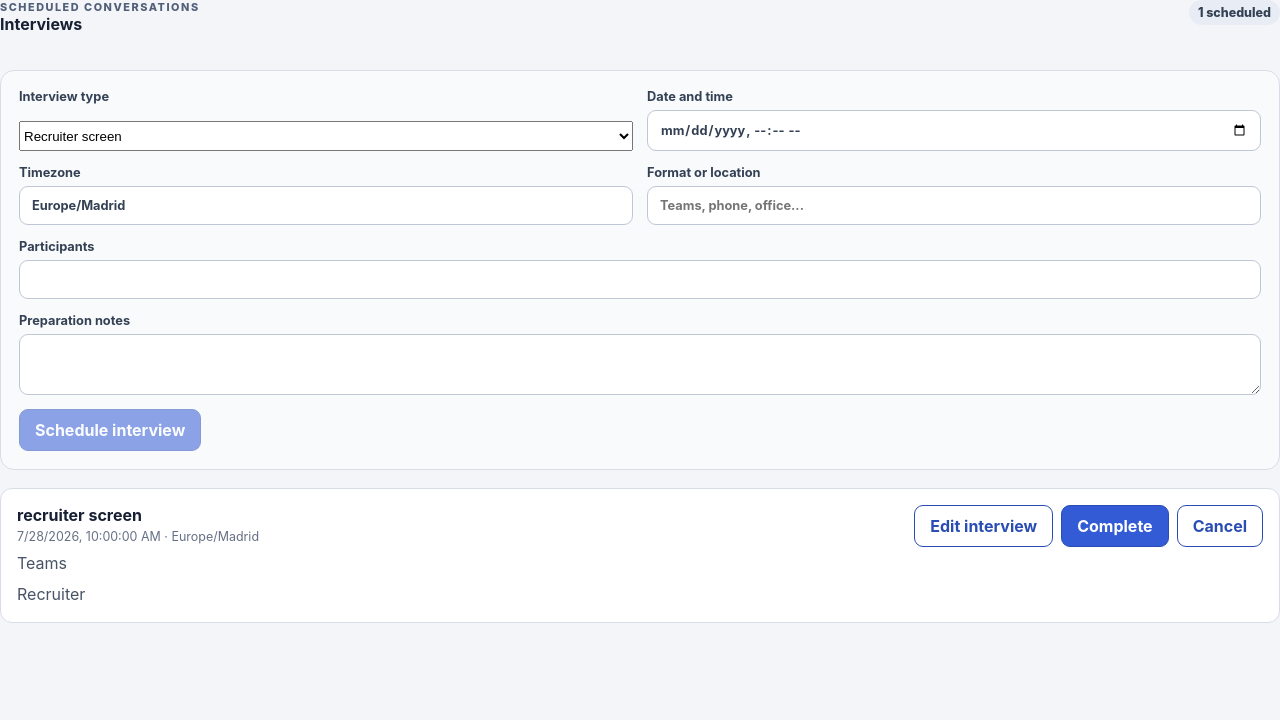
Scenario: ApplicationInterviews › edits and reloads a persisted interview
Expected: the text "recruiter screen" is shown, x1=17 y1=505 x2=142 y2=525
Click the button "Edit interview" at (984, 526), box x1=914 y1=505 x2=1053 y2=547
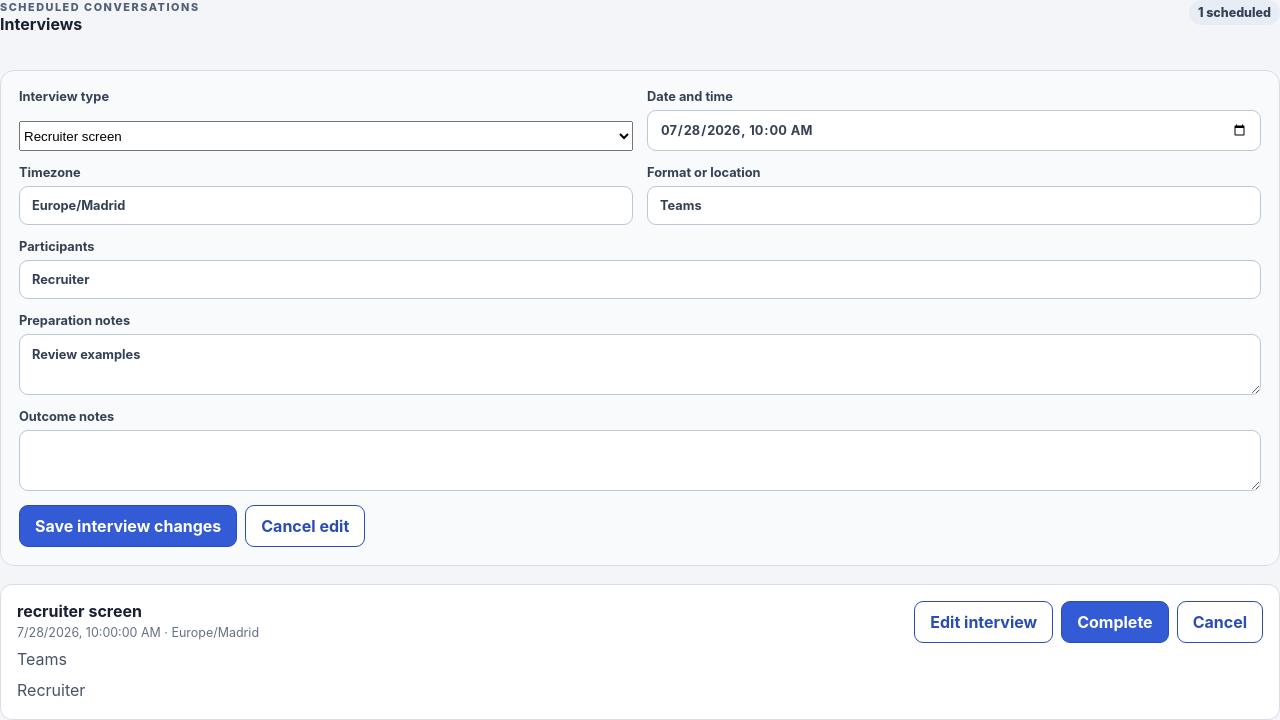
Select "Technical interview" in the dropdown labelled "Interview type" at (326, 136), box x1=19 y1=121 x2=633 y2=151
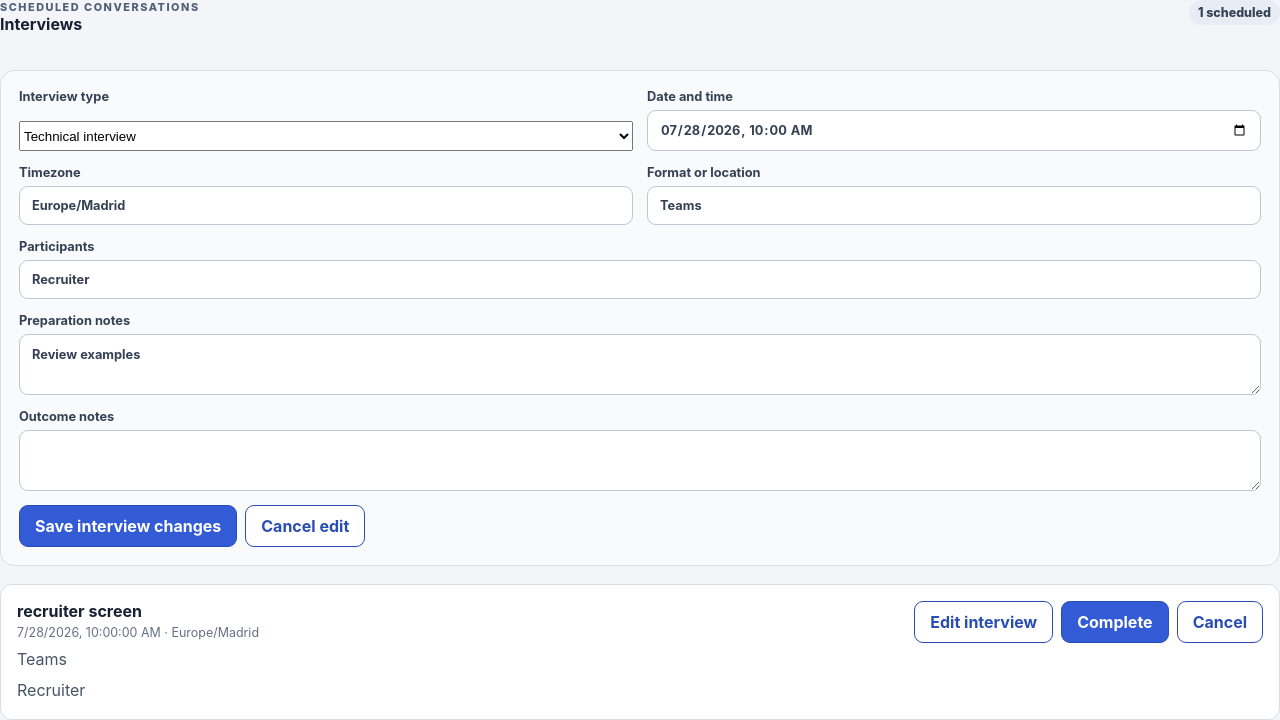
Replace the text in the field labelled "Format or location" with "Office" at (954, 206), box x1=647 y1=186 x2=1261 y2=225
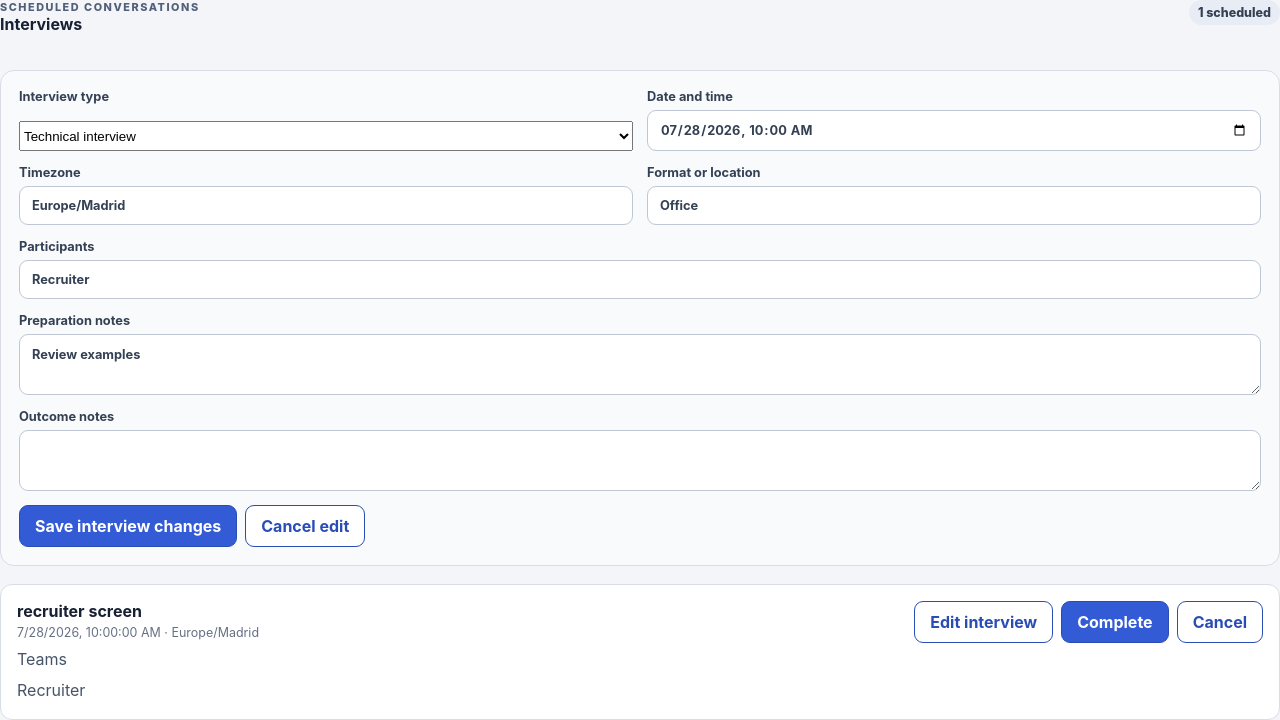
Click the button "Save interview changes" at (128, 526), box x1=19 y1=505 x2=237 y2=547
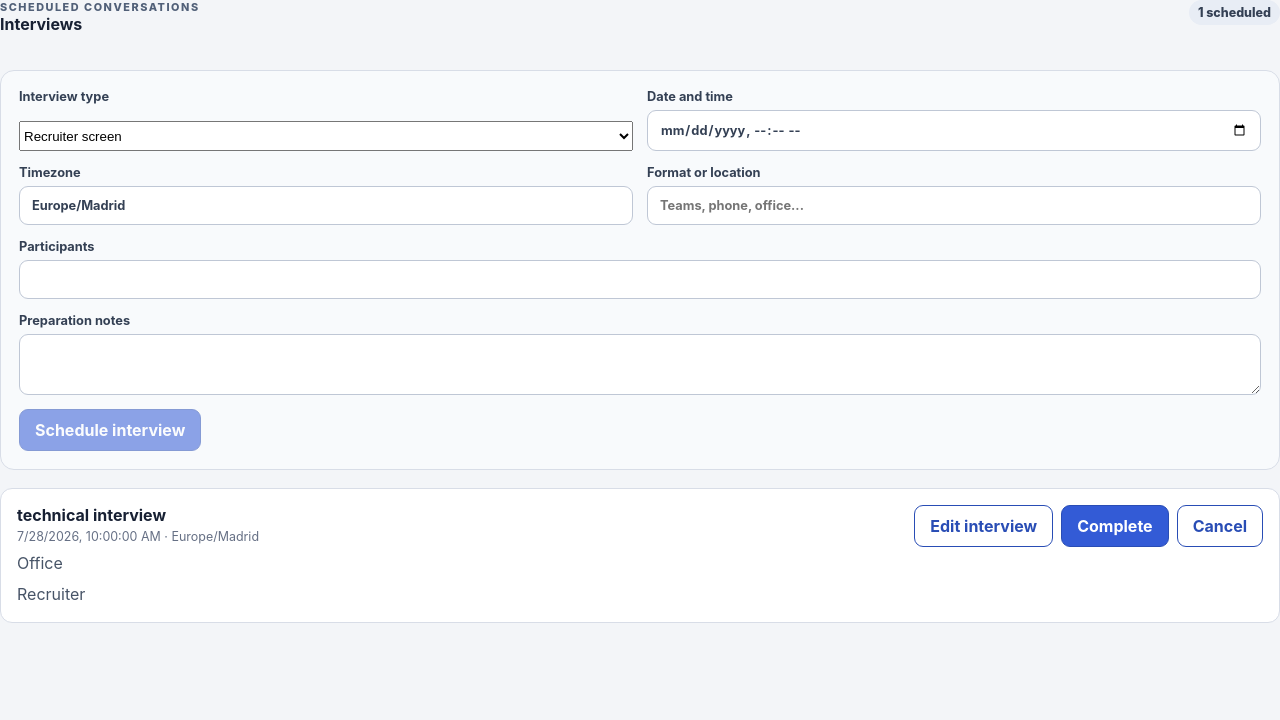
Expected: the text "technical interview" is shown, x1=17 y1=505 x2=166 y2=525
